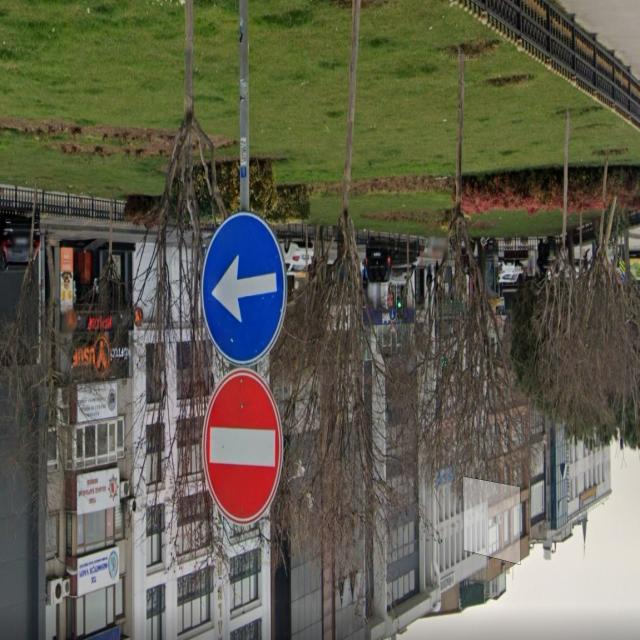No Entry: (204, 362, 283, 534)
